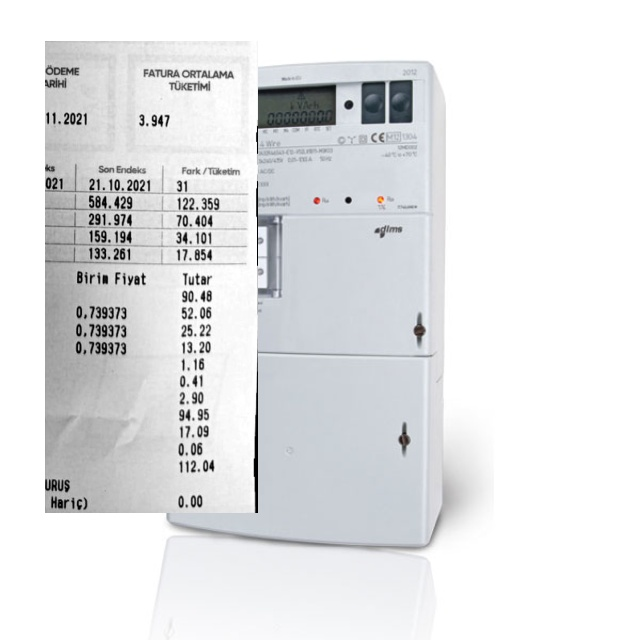electricity-bill: (44, 40, 257, 512)
